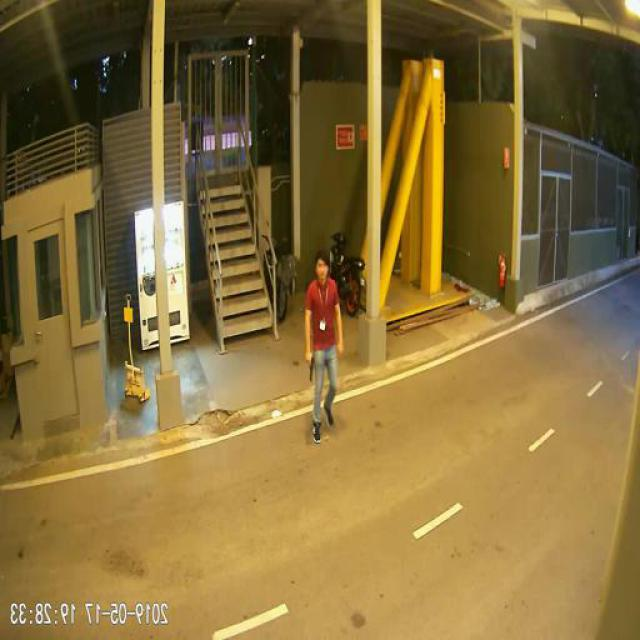Gun: (308, 351, 316, 379)
